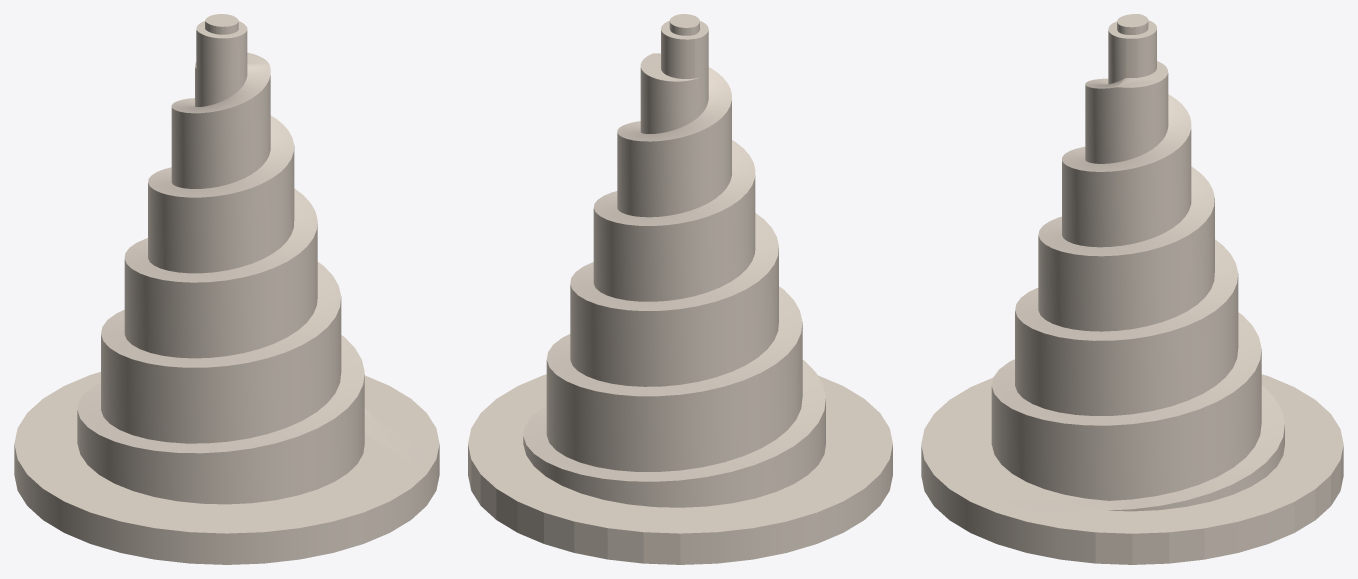
The model's file is MALWIAT SAMARA.glb.
3 renders of one model, left to right at view 1: azimuth 30°, elevation 25°; view 2: azimuth 150°, elevation 25°; view 3: azimuth 270°, elevation 25°, orthographic.
Visible parts, largest first — view 1: Geom3D; view 2: Geom3D; view 3: Geom3D.
Part boxes in pixels (<box>): Geom3D: <box>14,14,439,564</box>; Geom3D: <box>468,14,892,564</box>; Geom3D: <box>921,14,1343,564</box>.
Size of the model in its own units: 2.43 by 2.88 by 2.43.
